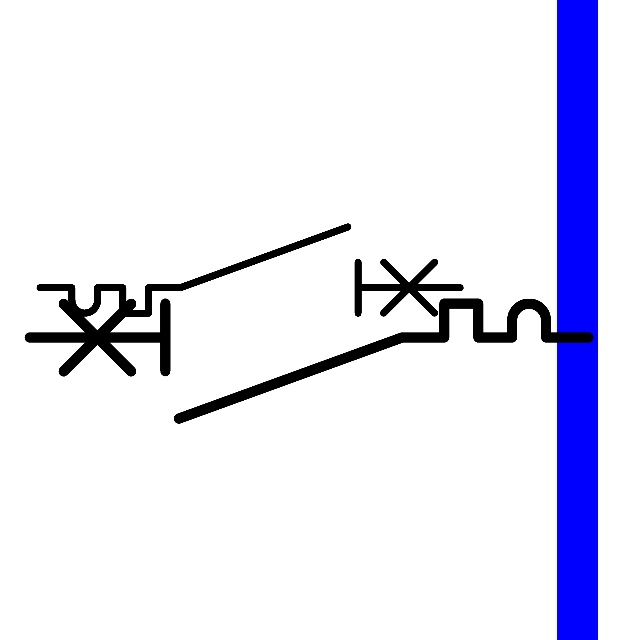interruptor_termomagnetico: (15, 289, 603, 433), (29, 216, 471, 324)
